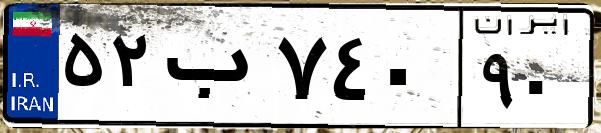0: (385, 28, 445, 110), (525, 38, 570, 115)
2: (110, 28, 158, 98)
4: (330, 28, 385, 110)
5: (57, 26, 110, 100)
7: (270, 28, 330, 110)
9: (475, 38, 525, 113)
ب: (158, 20, 270, 120)
